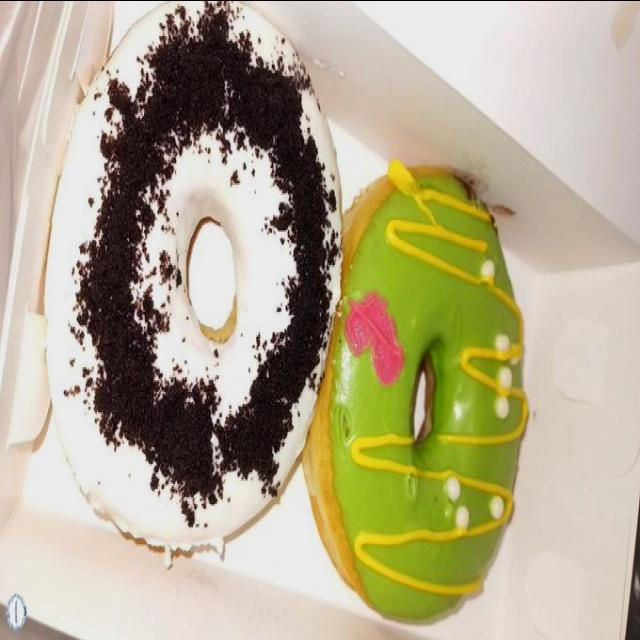donat: (40, 0, 344, 563), (299, 157, 531, 625)
